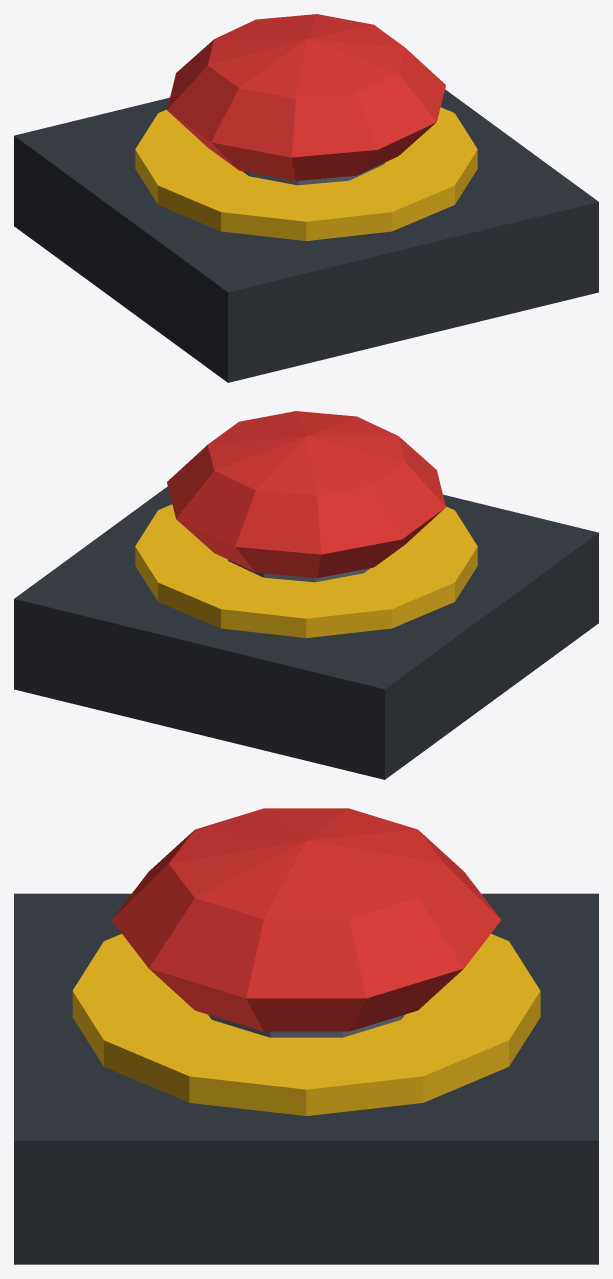
File: prop_lift_button.glb
3 renders of one model, top to bottom at view 1: azimuth 30°, elevation 25°; view 2: azimuth 150°, elevation 25°; view 3: azimuth 270°, elevation 25°, orthographic. The views are drawn at different scales.
Parts seen in each view (by area): view 1: prop_lift_button; view 2: prop_lift_button; view 3: prop_lift_button.
Boxes of the visible parts, bbox=[...] form: prop_lift_button: bbox=[14, 14, 598, 382]; prop_lift_button: bbox=[14, 411, 598, 779]; prop_lift_button: bbox=[14, 808, 598, 1264].
Bounding box in the file's own units: 0.3 × 0.17 × 0.3.
1 material, 1 textured.
